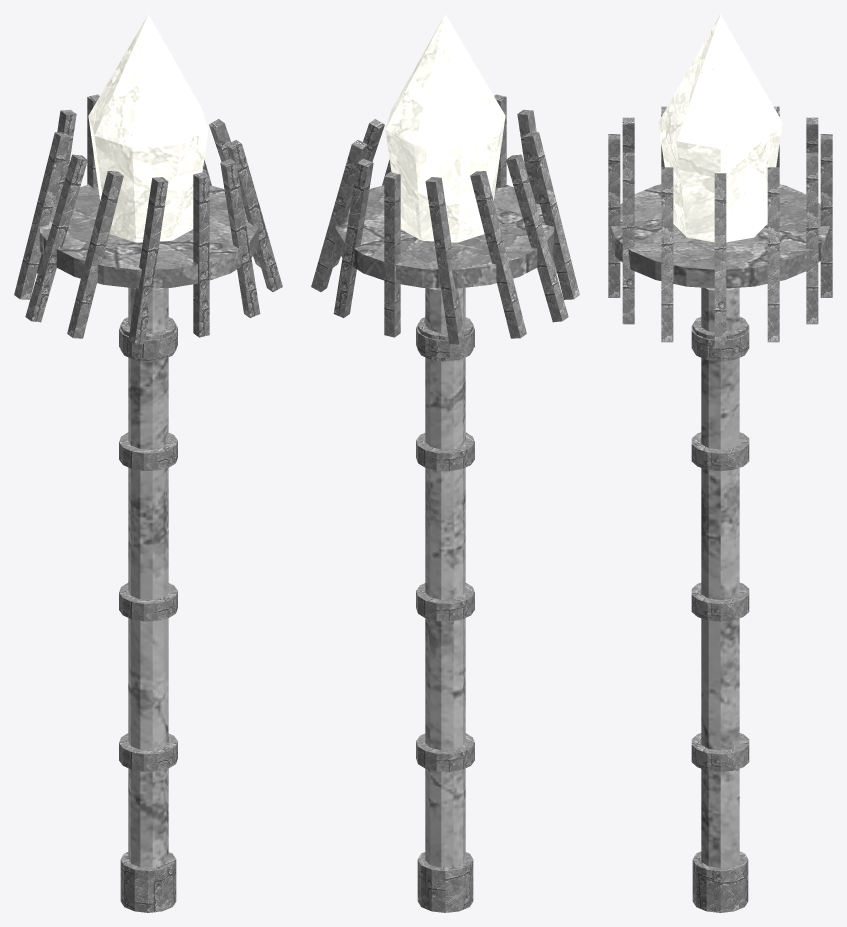
Rendered from staff-radiance-master.glb.
3 renders of one model, left to right at view 1: azimuth 30°, elevation 25°; view 2: azimuth 150°, elevation 25°; view 3: azimuth 270°, elevation 25°, orthographic.
Visible parts, largest first — view 1: shaft, core, halo, daybreak5, daybreak6, daybreak4, daybreak7, pommel, daybreak3, daybreak2, daybreak1, band-0.1 (+7 smaller); view 2: shaft, core, halo, daybreak7, daybreak6, daybreak8, daybreak5, pommel, daybreak9, daybreak10, daybreak11, band-0.1 (+7 smaller); view 3: shaft, core, halo, pommel, daybreak1, daybreak11, daybreak0, daybreak2, daybreak10, daybreak3, daybreak9, band-0.1 (+4 smaller).
Part boxes in pixels (<box>): shaft: <box>128,287,168,867</box>; core: <box>88,14,208,242</box>; halo: <box>39,184,258,288</box>; daybreak5: <box>67,171,123,338</box>; daybreak6: <box>25,154,87,322</box>; daybreak4: <box>128,177,168,344</box>; daybreak7: <box>14,132,70,299</box>; pommel: <box>120,852,176,912</box>; daybreak3: <box>193,172,209,337</box>; daybreak2: <box>220,158,260,317</box>; daybreak1: <box>226,140,282,291</box>; band-0.1: <box>119,583,177,621</box>; shaft: <box>425,287,465,867</box>; core: <box>385,14,505,242</box>; halo: <box>335,184,554,288</box>; daybreak7: <box>470,171,526,338</box>; daybreak6: <box>506,154,568,322</box>; daybreak8: <box>425,177,465,344</box>; daybreak5: <box>523,132,579,299</box>; pommel: <box>417,852,473,912</box>; daybreak9: <box>384,172,400,337</box>; daybreak10: <box>333,158,373,317</box>; daybreak11: <box>311,140,367,291</box>; band-0.1: <box>416,583,474,621</box>; shaft: <box>701,287,739,867</box>; core: <box>658,14,782,242</box>; halo: <box>610,184,830,288</box>; pommel: <box>692,851,748,912</box>; daybreak1: <box>661,167,673,342</box>; daybreak11: <box>767,167,779,342</box>; daybreak0: <box>714,173,726,348</box>; daybreak2: <box>622,152,634,324</box>; daybreak10: <box>806,152,818,324</box>; daybreak3: <box>608,134,620,297</box>; daybreak9: <box>820,134,832,297</box>; band-0.1: <box>691,582,749,621</box>.
Bounding box in the file's own units: 0.6022 × 2.12 × 0.486.
Materials: 4 (4 with a texture image).
